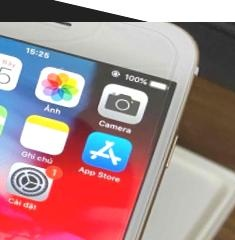screen_defect: (19, 22, 152, 78)
